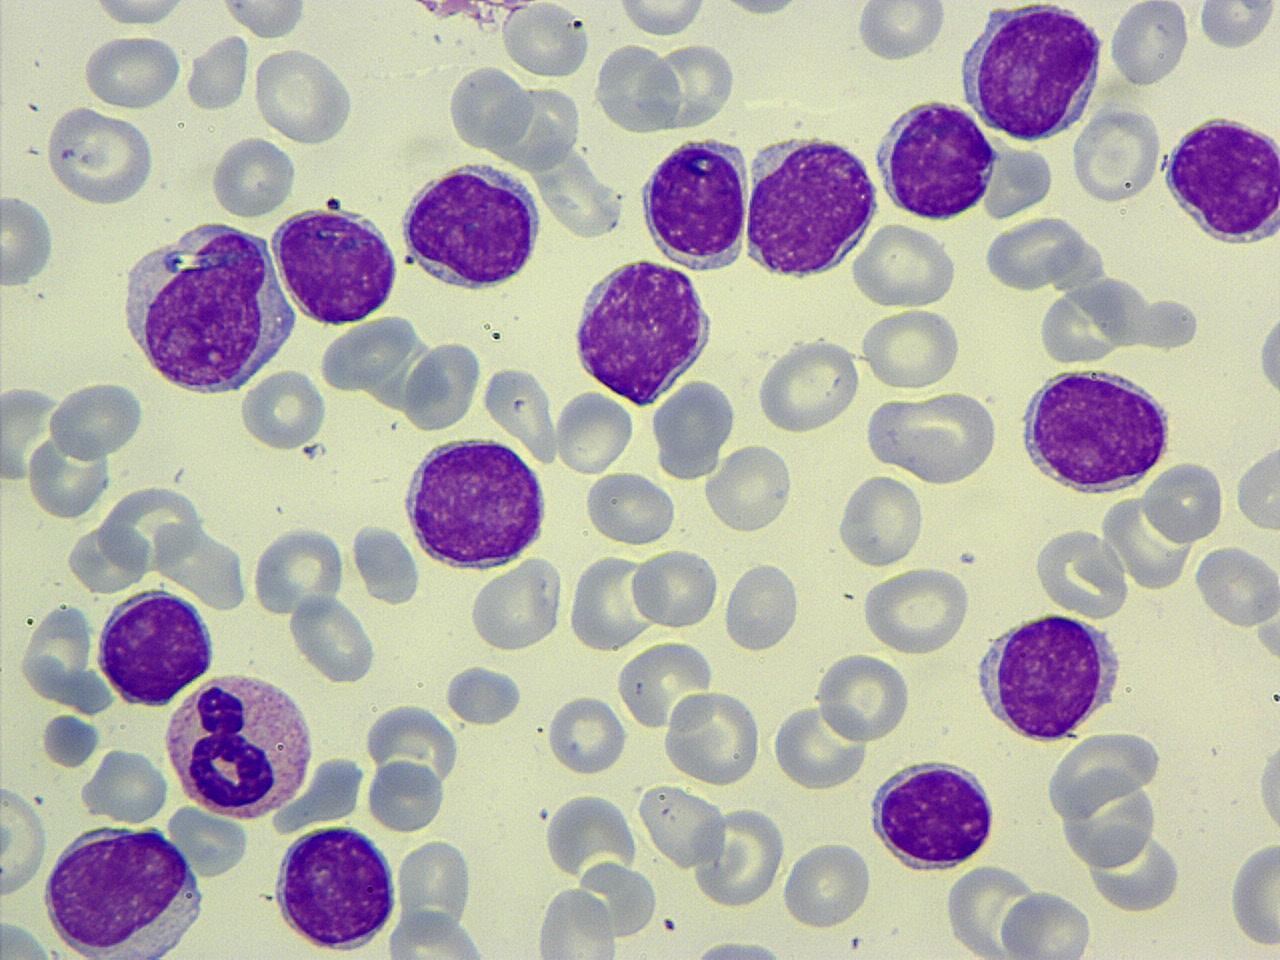Platelets: (38, 713, 105, 768)
RBC: (44, 105, 158, 208), (880, 389, 1000, 484), (1041, 728, 1159, 824), (754, 335, 862, 437), (250, 46, 357, 148), (858, 566, 974, 657), (1056, 767, 1160, 869), (660, 686, 761, 788), (694, 803, 787, 911), (1070, 102, 1166, 206), (469, 554, 564, 654), (1100, 491, 1194, 593), (651, 372, 738, 483), (847, 222, 958, 308), (614, 637, 716, 730), (249, 521, 346, 617), (814, 649, 912, 744), (1031, 524, 1129, 618), (768, 700, 868, 792), (17, 600, 101, 708), (568, 549, 656, 651), (780, 836, 875, 930), (835, 472, 926, 569), (858, 306, 962, 390), (702, 442, 794, 536), (542, 790, 638, 880), (394, 835, 474, 942), (644, 39, 736, 132), (595, 40, 683, 136), (1084, 828, 1182, 915), (287, 590, 377, 684), (981, 214, 1085, 291), (636, 781, 728, 869), (26, 426, 112, 520), (48, 377, 145, 460), (628, 546, 720, 632), (208, 133, 300, 219), (82, 32, 183, 110), (317, 314, 416, 393), (239, 365, 329, 452), (722, 560, 801, 656), (446, 61, 529, 152), (401, 338, 480, 434), (1192, 542, 1278, 629), (551, 388, 635, 478), (1106, 2, 1192, 88), (1141, 457, 1227, 544), (582, 470, 677, 547), (80, 745, 171, 825), (500, 2, 591, 80), (546, 692, 626, 777), (532, 883, 620, 960), (998, 888, 1094, 958), (350, 520, 423, 606), (1227, 833, 1279, 950), (365, 757, 444, 834), (1, 781, 50, 902), (0, 190, 57, 292), (63, 524, 148, 594), (854, 1, 948, 61), (384, 908, 494, 958), (186, 29, 252, 113), (442, 662, 526, 726), (1233, 438, 1279, 536), (1197, 0, 1277, 51), (215, 0, 312, 41), (612, 0, 713, 39), (87, 0, 191, 30), (1256, 294, 1280, 418), (1254, 731, 1280, 845), (0, 916, 55, 958)
WBC: (118, 215, 301, 398), (158, 668, 318, 824), (39, 818, 210, 959), (568, 253, 718, 406), (398, 430, 552, 574), (1014, 361, 1178, 496), (956, 1, 1108, 143), (972, 606, 1126, 745), (742, 129, 880, 280), (397, 158, 546, 294), (270, 820, 400, 955), (866, 752, 1004, 874), (1160, 108, 1280, 246), (873, 96, 1002, 224), (637, 133, 753, 274), (270, 203, 402, 326), (92, 586, 219, 708)
